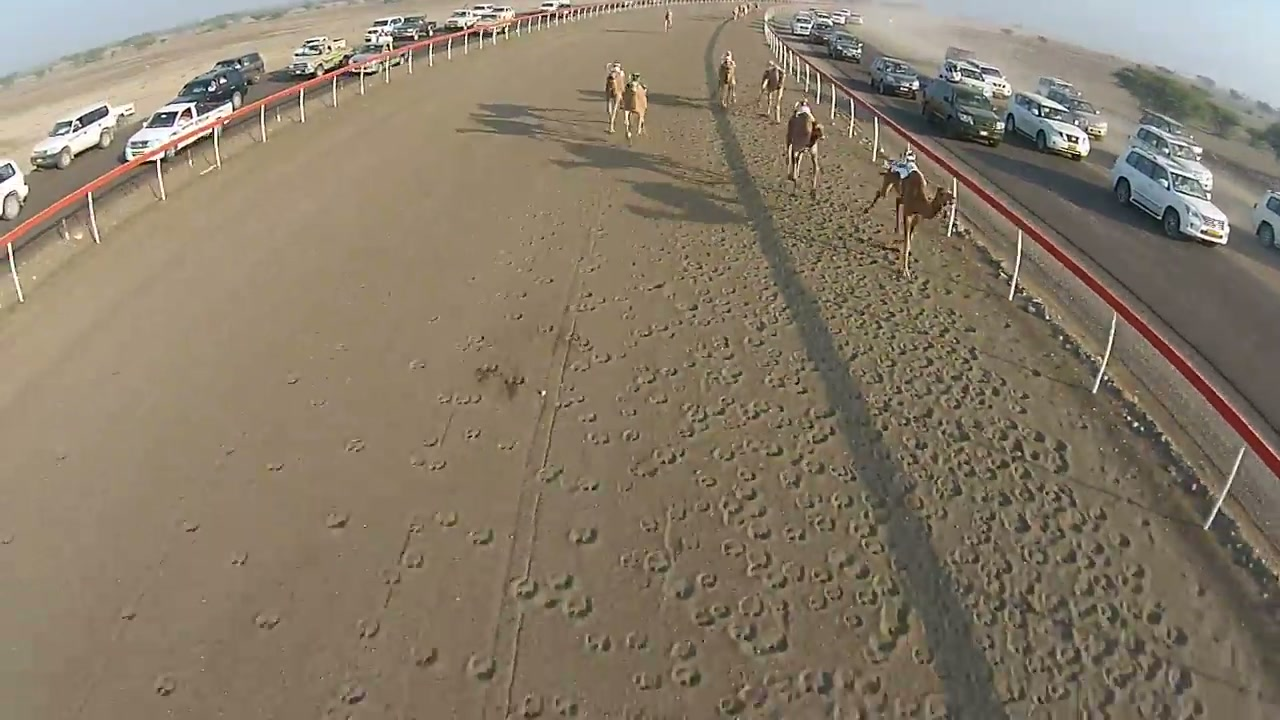animal_foot_print: (162, 69, 1269, 719), (517, 115, 1203, 716), (510, 236, 896, 716)
